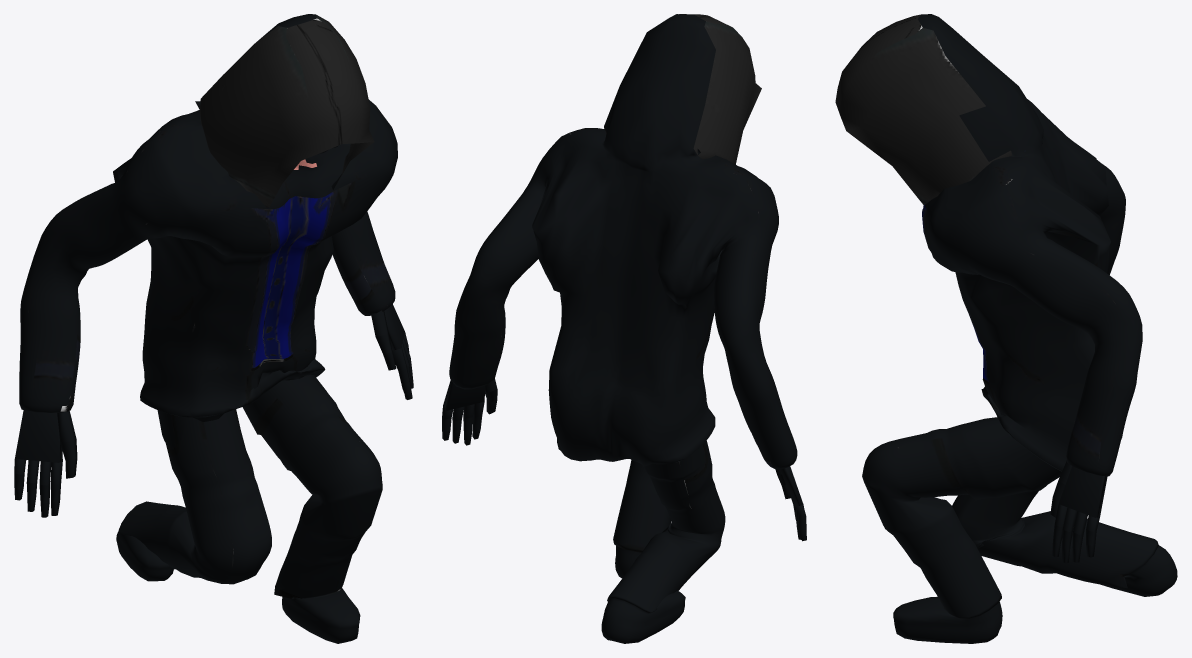
The model's file is keyFrame03.obj.
3 renders of one model, left to right at view 1: azimuth 30°, elevation 25°; view 2: azimuth 150°, elevation 25°; view 3: azimuth 270°, elevation 25°, orthographic. The views are drawn at different scales.
Visible parts, largest first — view 1: pasted__polySurface71 group4; view 2: pasted__polySurface71 group4; view 3: pasted__polySurface71 group4.
Boxes of the visible parts, x1,y1,x2,y2 form: pasted__polySurface71 group4: (14,14,413,643); pasted__polySurface71 group4: (442,14,806,643); pasted__polySurface71 group4: (835,14,1177,643).
Size of the model in its own units: 7.33 by 10.82 by 5.57.
